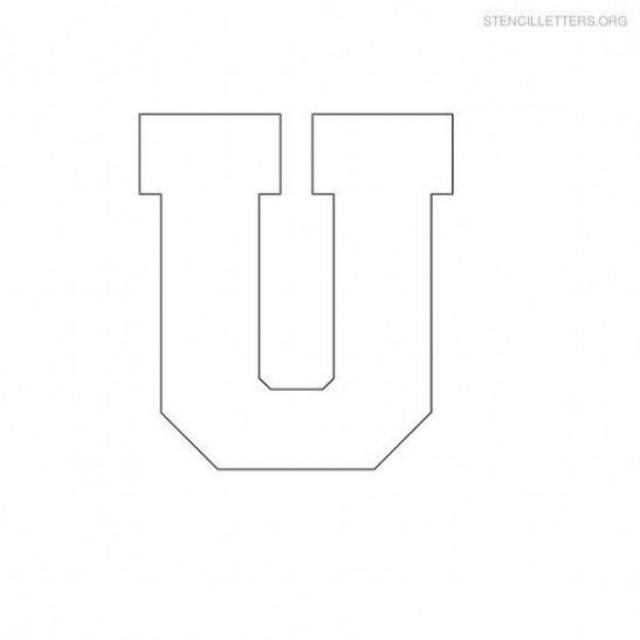U: (95, 75, 482, 522)
